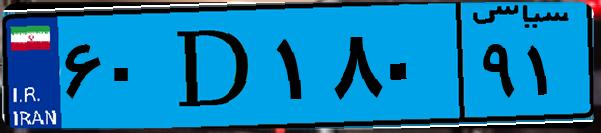0: (385, 28, 445, 110), (110, 28, 158, 98)
1: (270, 28, 330, 110), (525, 38, 570, 115)
6: (57, 26, 110, 100)
8: (330, 28, 385, 110)
9: (475, 38, 525, 113)
D: (158, 12, 270, 120)
